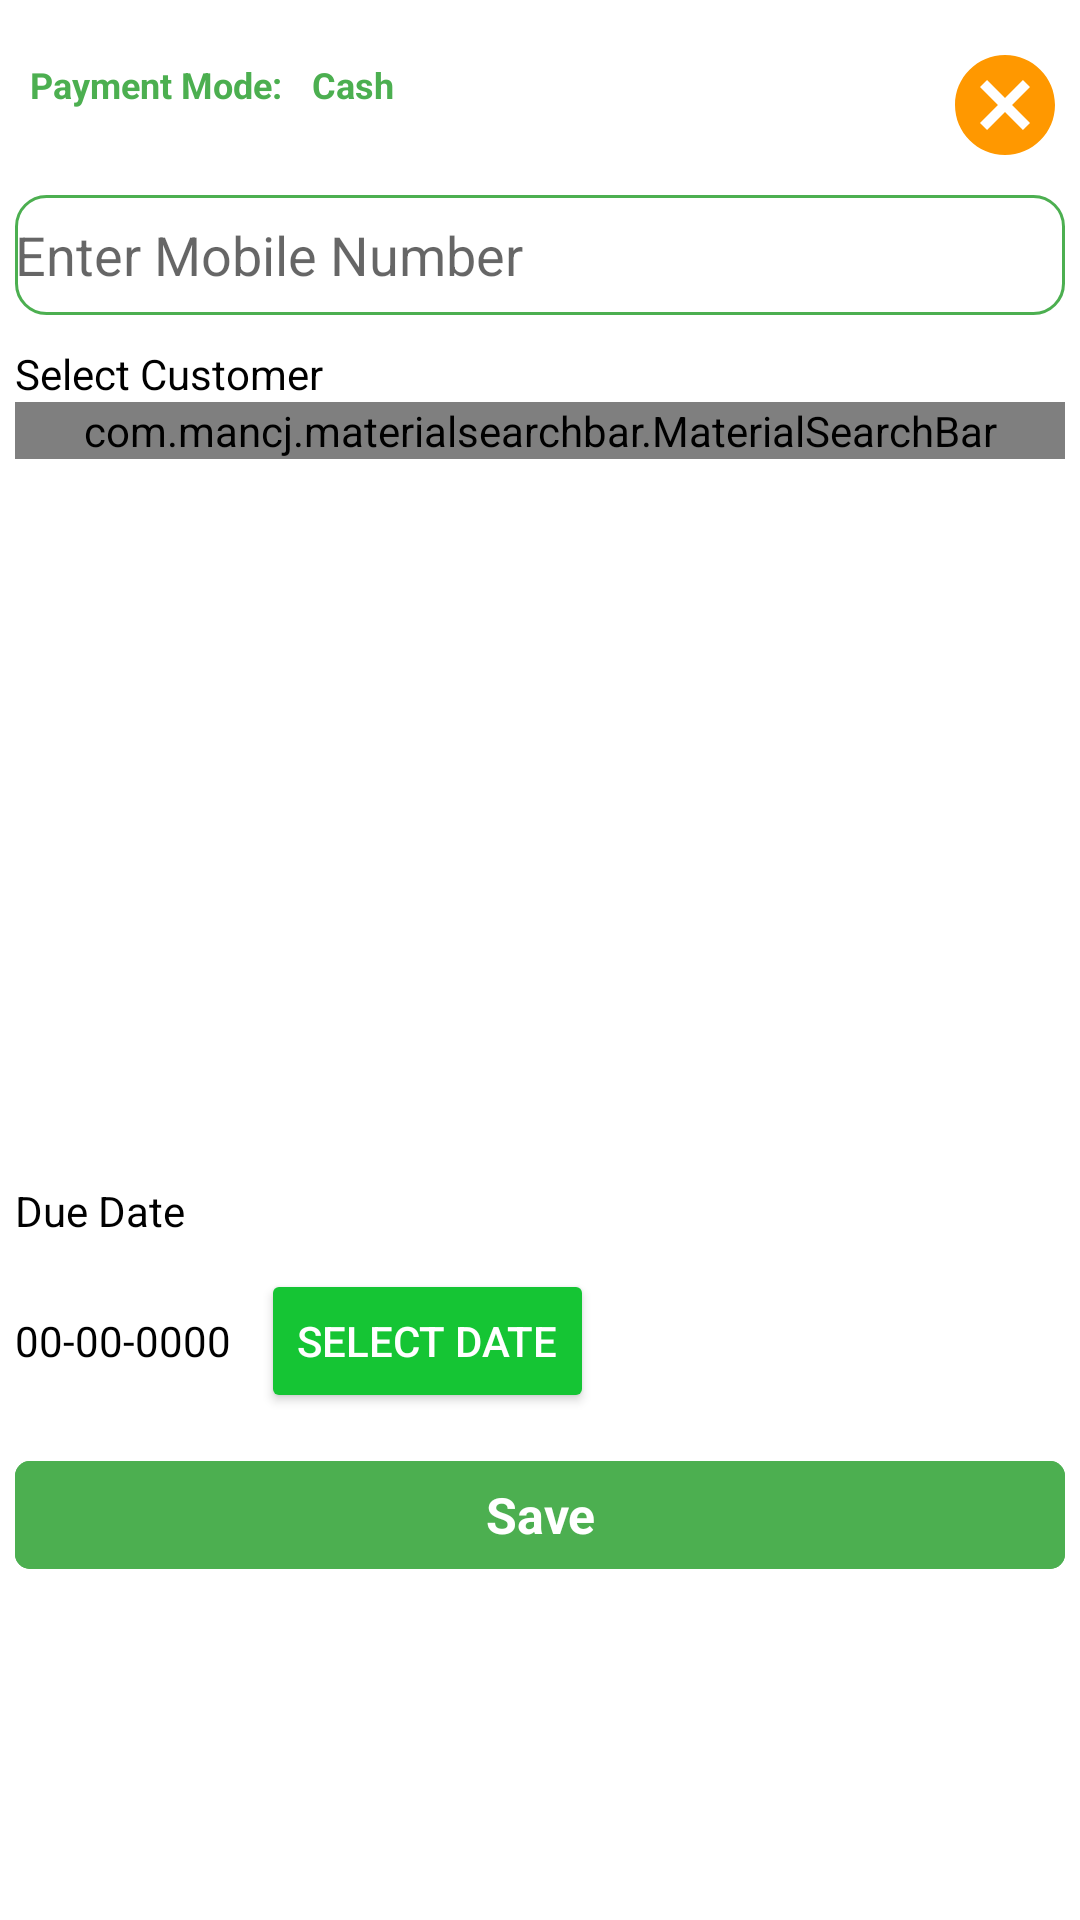

Named icons in this screenshot (1080×1920) and their bounding boxes, (x1, y1, x2, y2):
cancel: (955, 55, 1055, 155)
